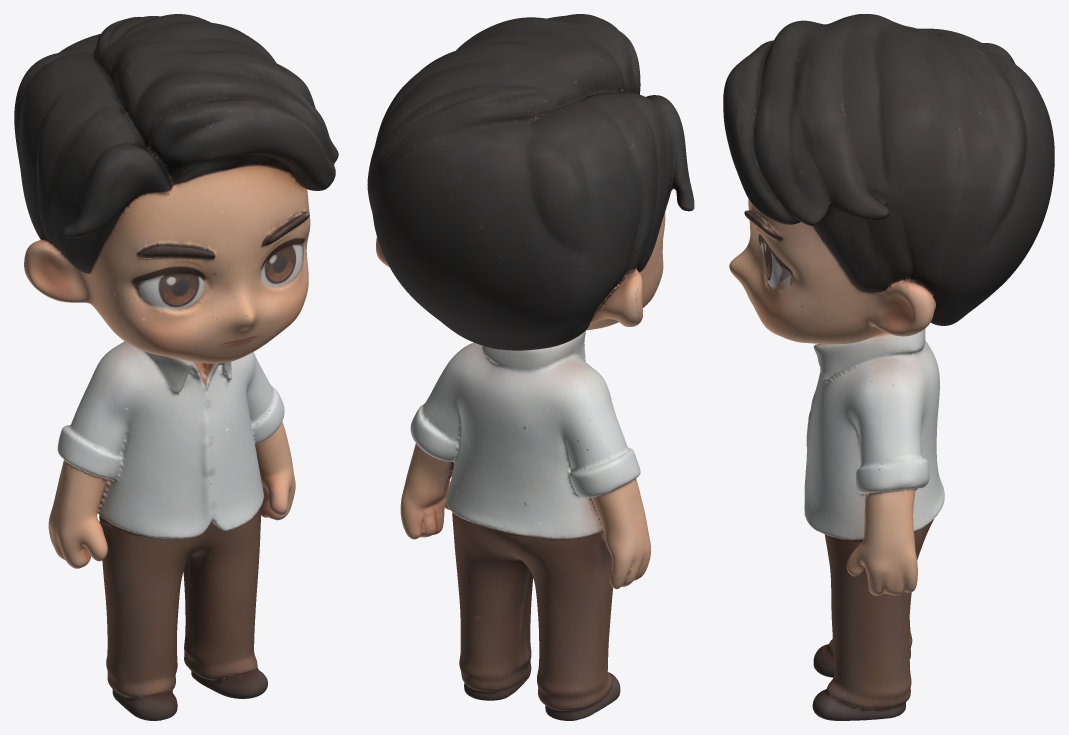
Rendered from Meshy_AI_Chibi_Gentleman_in_Wh_0606002555_texture.glb.
The picture shows the model from 3 angles, left to right: view 1: azimuth 30°, elevation 25°; view 2: azimuth 150°, elevation 25°; view 3: azimuth 270°, elevation 25°; orthographic projection.
Size of the model in its own units: 0.8915 by 2 by 0.9167.
1 material, 1 textured.
